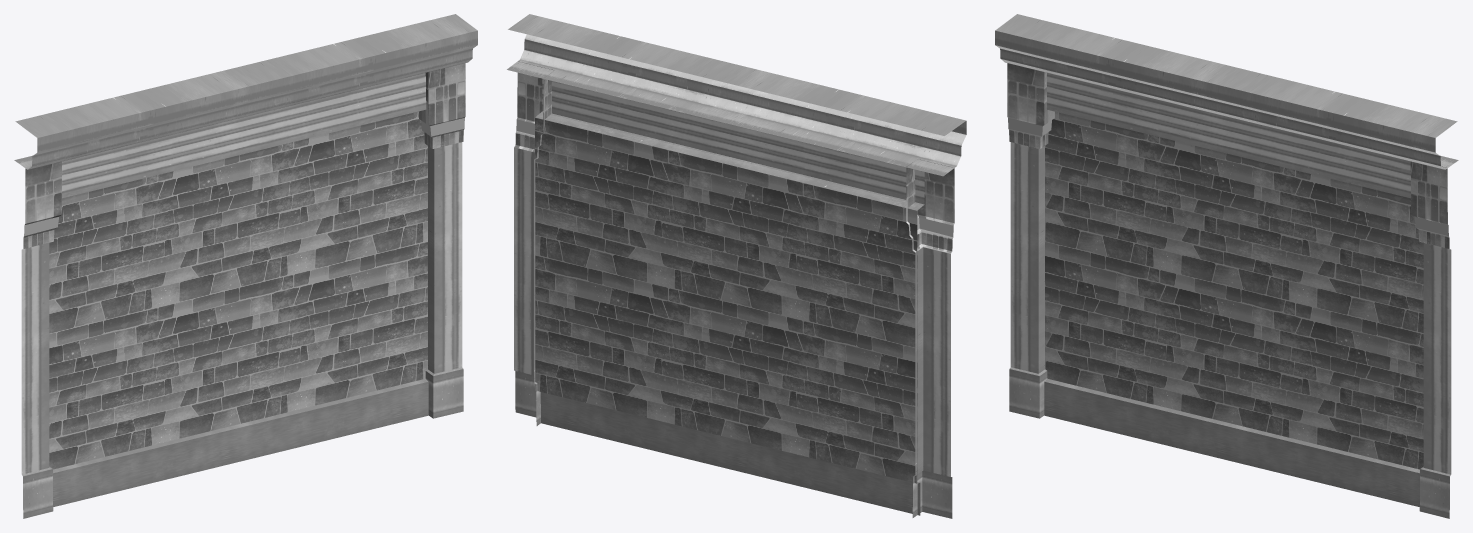
File: SM_Facade_02a.fbx
3 renders of one model, left to right at view 1: azimuth 30°, elevation 25°; view 2: azimuth 150°, elevation 25°; view 3: azimuth 330°, elevation 25°, orthographic.
Parts seen in each view (by area): view 1: SM_Facade_02a; view 2: SM_Facade_02a; view 3: SM_Facade_02a.
Part boxes in pixels (left/top/right/bottom): SM_Facade_02a: left=14, top=14, right=477, bottom=518; SM_Facade_02a: left=507, top=14, right=966, bottom=518; SM_Facade_02a: left=995, top=14, right=1458, bottom=518.
Size of the model in its own units: 640 by 544 by 59.5.
